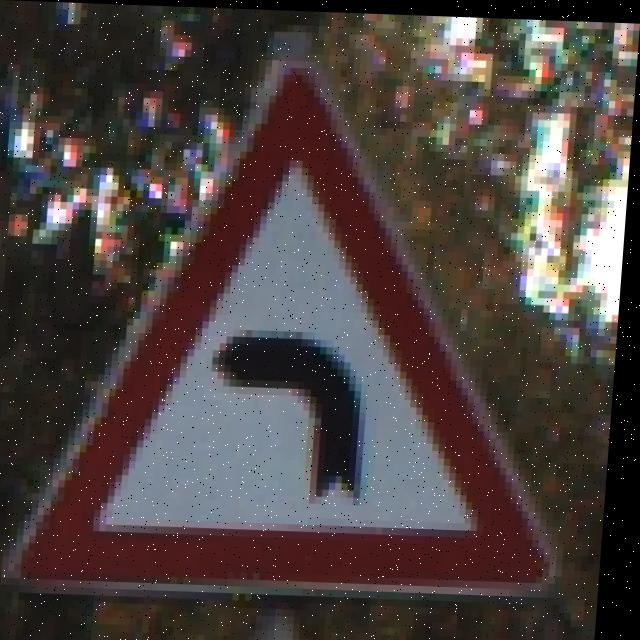left_turn: (36, 48, 594, 604)
